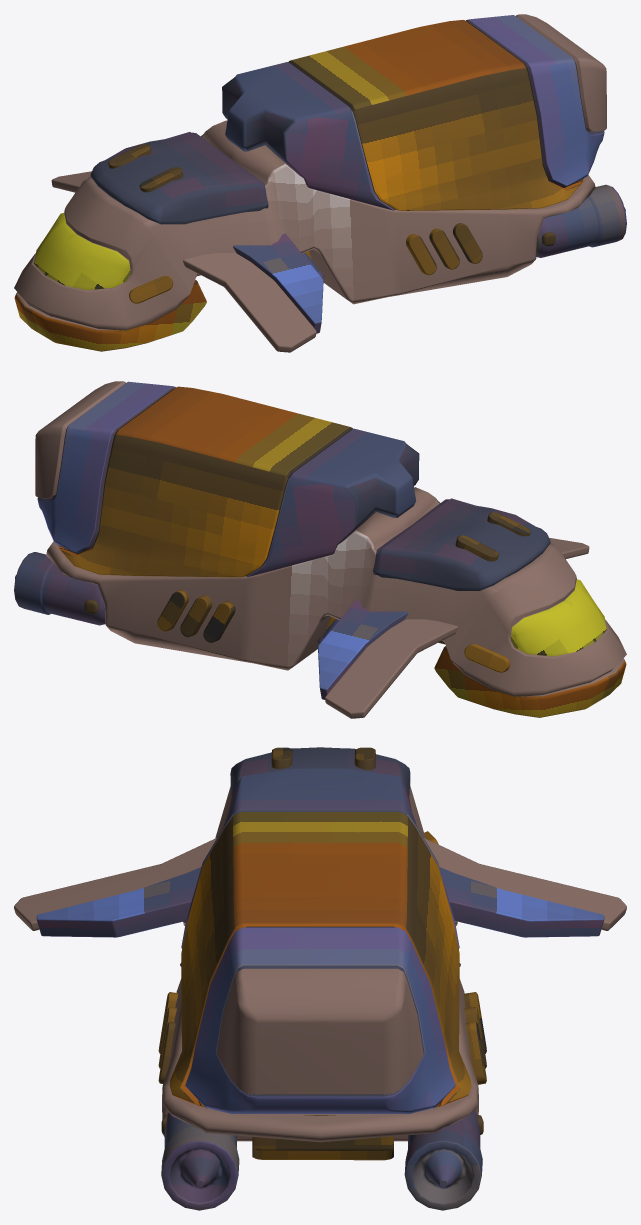
File: transport.glb
3 renders of one model, top to bottom at view 1: azimuth 30°, elevation 25°; view 2: azimuth 150°, elevation 25°; view 3: azimuth 270°, elevation 25°, orthographic. The views are drawn at different scales.
Parts seen in each view (by area): view 1: Сargo_ship; view 2: Сargo_ship; view 3: Сargo_ship.
Boxes of the visible parts, x1,y1,x2,y2 form: Сargo_ship: [14, 14, 626, 352]; Сargo_ship: [14, 381, 626, 718]; Сargo_ship: [14, 747, 626, 1210].
Bounding box in the file's own units: 0.6085 × 0.194 × 0.4389.
1 material, 1 textured.
